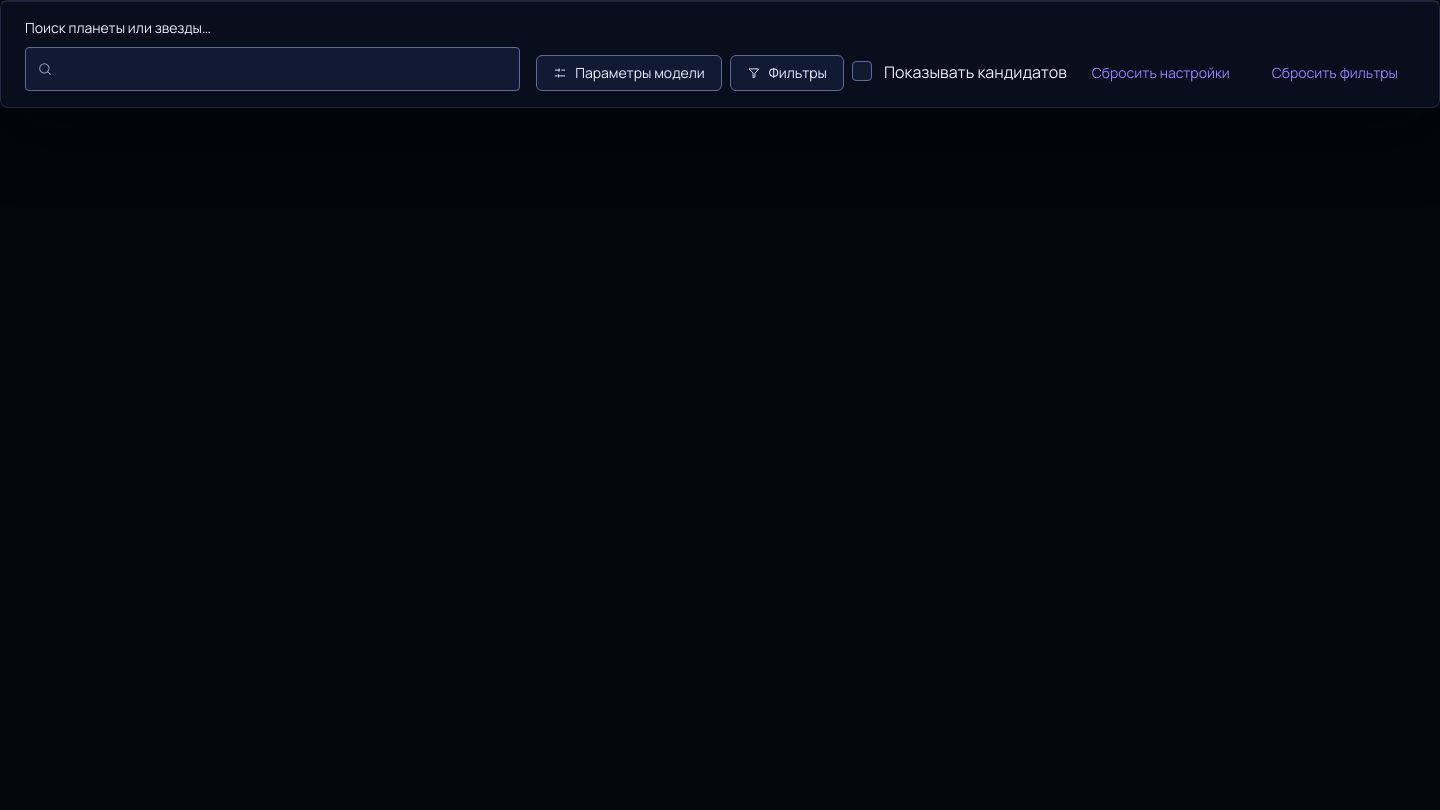
Scenario: спектральные классы › кнопки идут в порядке M K G F A B O и переключаются с клавиатуры
This screenshot has width=1440, height=810.
Step 1. Click the button "Фильтры" → (787, 73), box [730, 55, 844, 91]
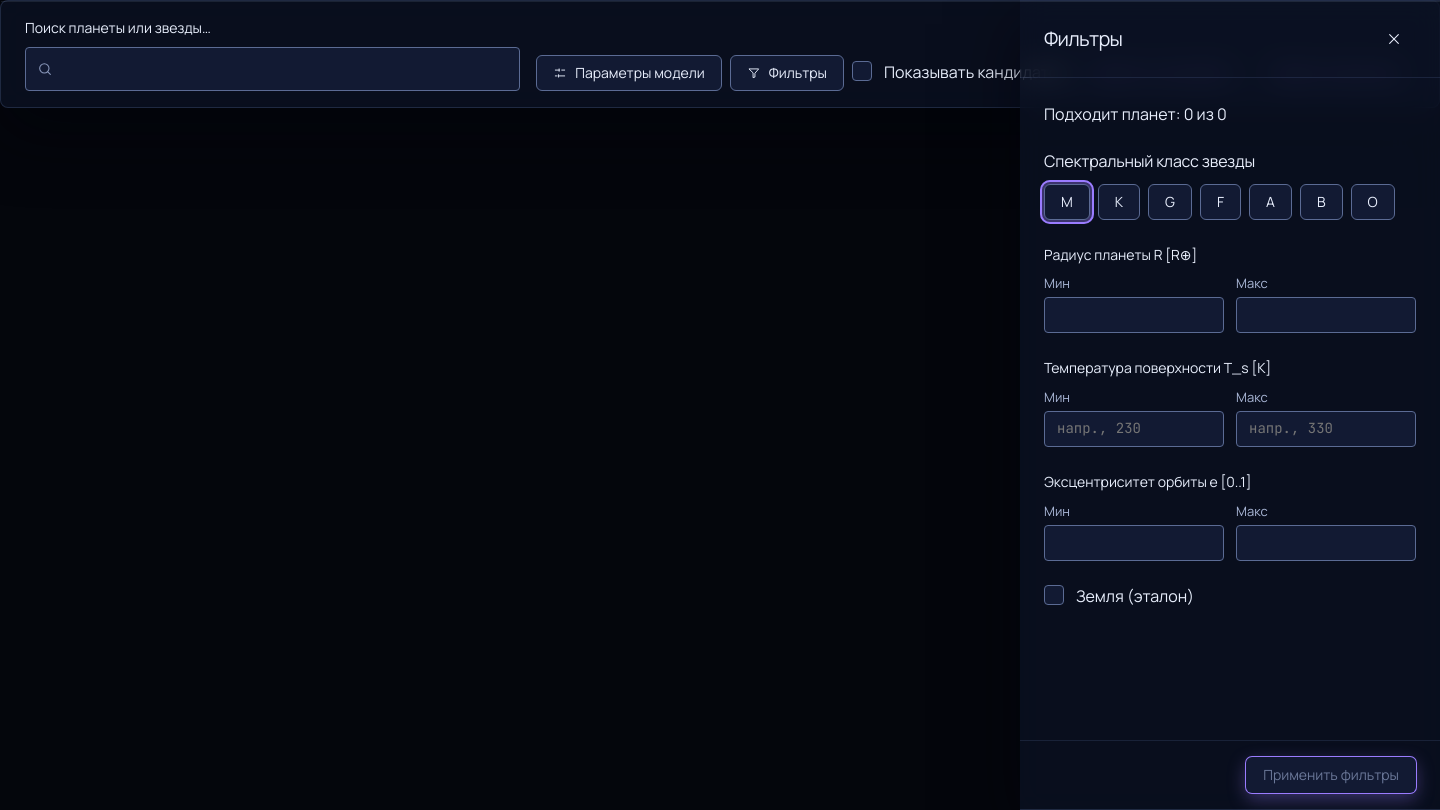
Step 2. Press Enter in the button "M", box [1044, 184, 1090, 220]
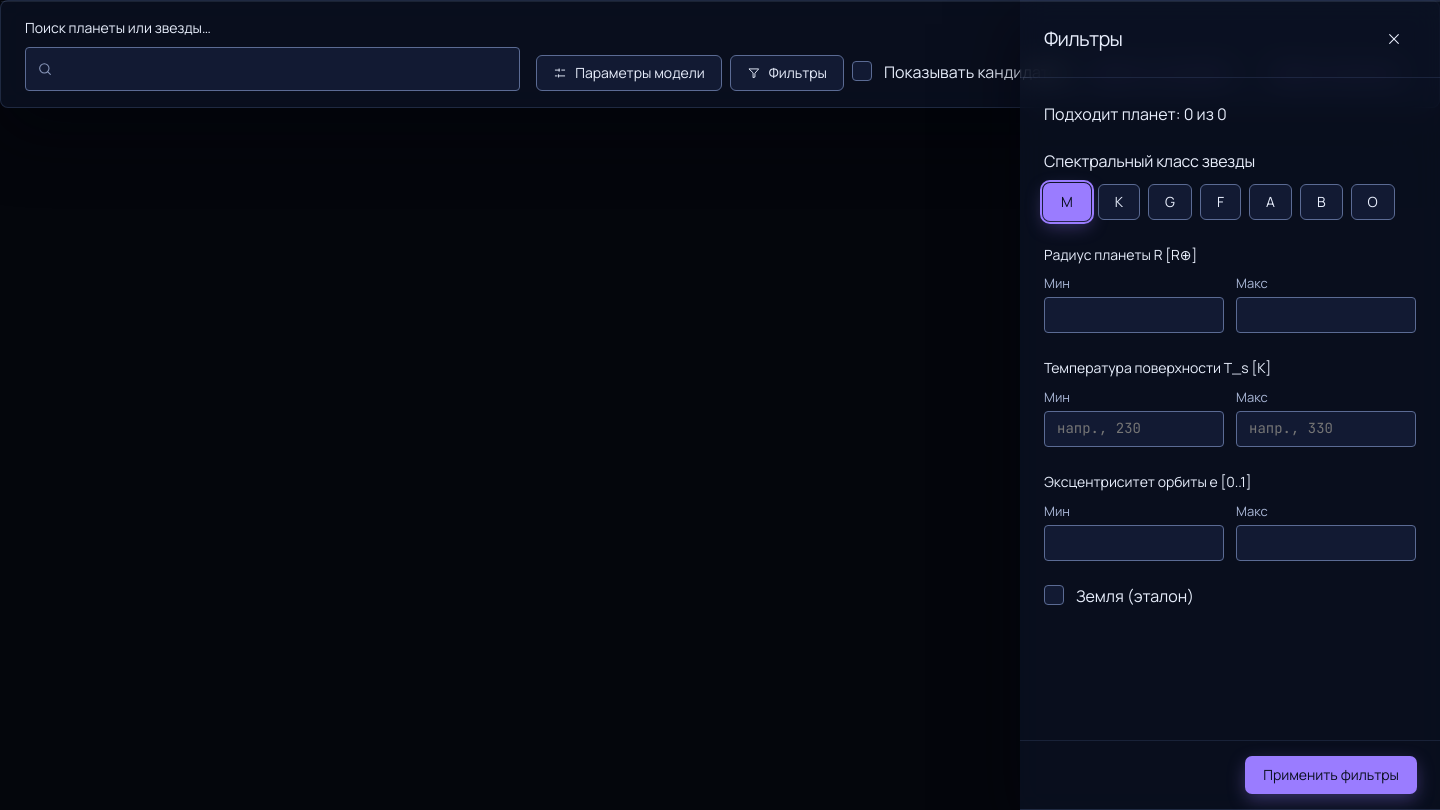
Check: the button "M" is pressed
Step 3. Press Space in the button "M", box [1044, 184, 1090, 220]
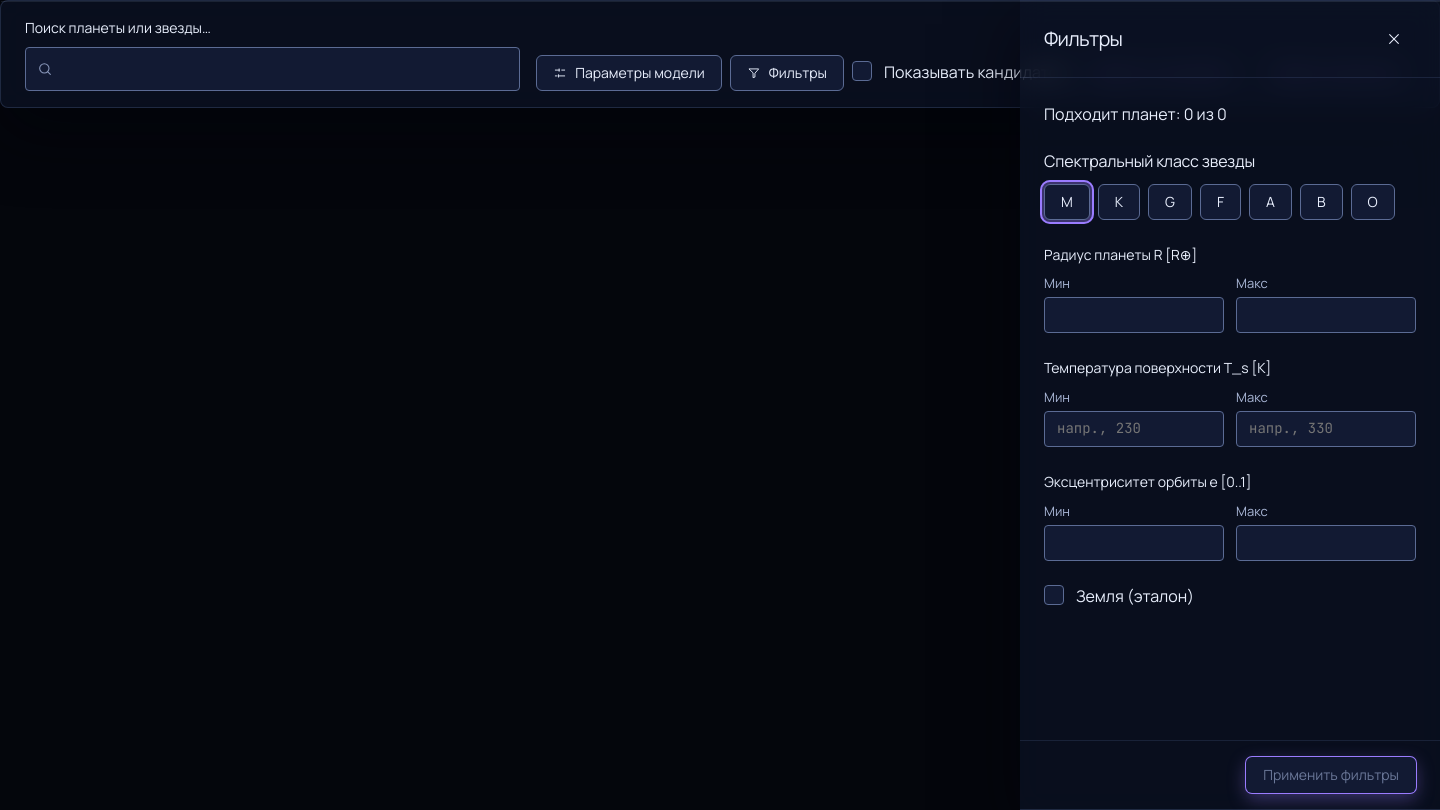
Check: the button "M" is not pressed, box [1044, 184, 1090, 220]
